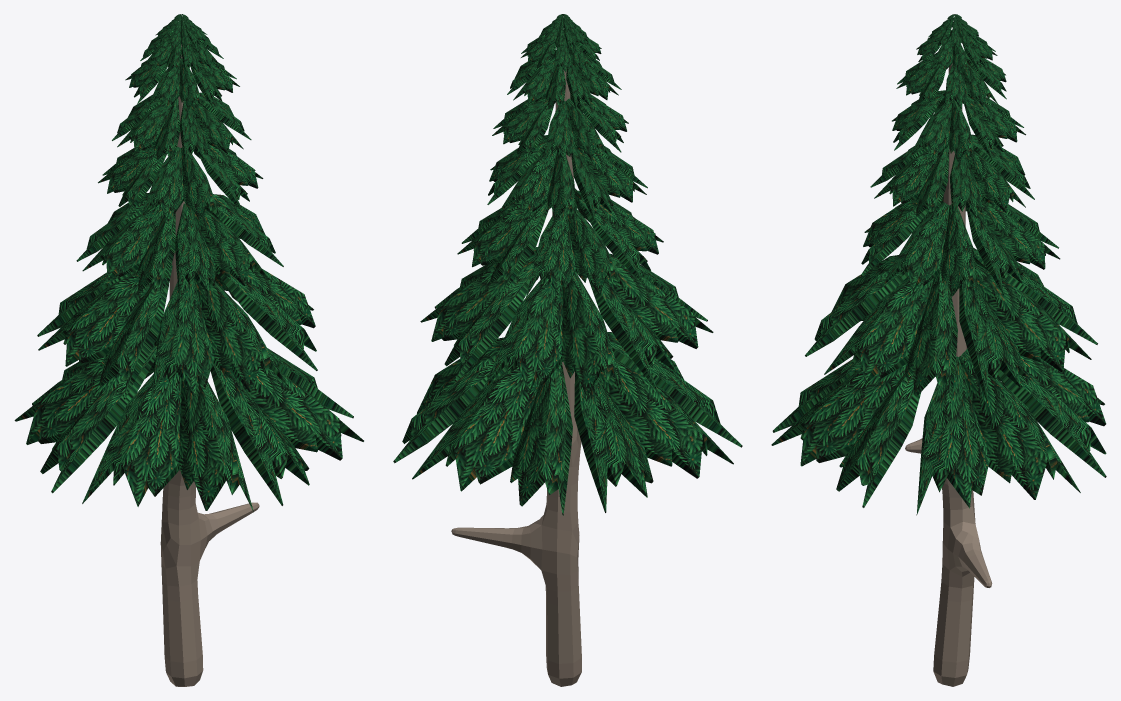
File: CartoonTree.obj
The picture shows the model from 3 angles, left to right: view 1: azimuth 30°, elevation 25°; view 2: azimuth 150°, elevation 25°; view 3: azimuth 270°, elevation 25°; orthographic projection.
Visible parts, largest first — view 1: Plane.001_Plane.050_Material.002, Plane.001_Plane.050_Material.001; view 2: Plane.001_Plane.050_Material.002, Plane.001_Plane.050_Material.001; view 3: Plane.001_Plane.050_Material.002, Plane.001_Plane.050_Material.001.
Boxes of the visible parts, box(x1,y1,x2,y2) form: Plane.001_Plane.050_Material.002: box(14, 14, 363, 511); Plane.001_Plane.050_Material.001: box(160, 44, 259, 686); Plane.001_Plane.050_Material.002: box(393, 14, 742, 515); Plane.001_Plane.050_Material.001: box(451, 69, 581, 686); Plane.001_Plane.050_Material.002: box(771, 14, 1106, 515); Plane.001_Plane.050_Material.001: box(905, 63, 992, 686).
Size of the model in its own units: 1.55 by 3.26 by 1.48.
2 materials, 2 textured.
